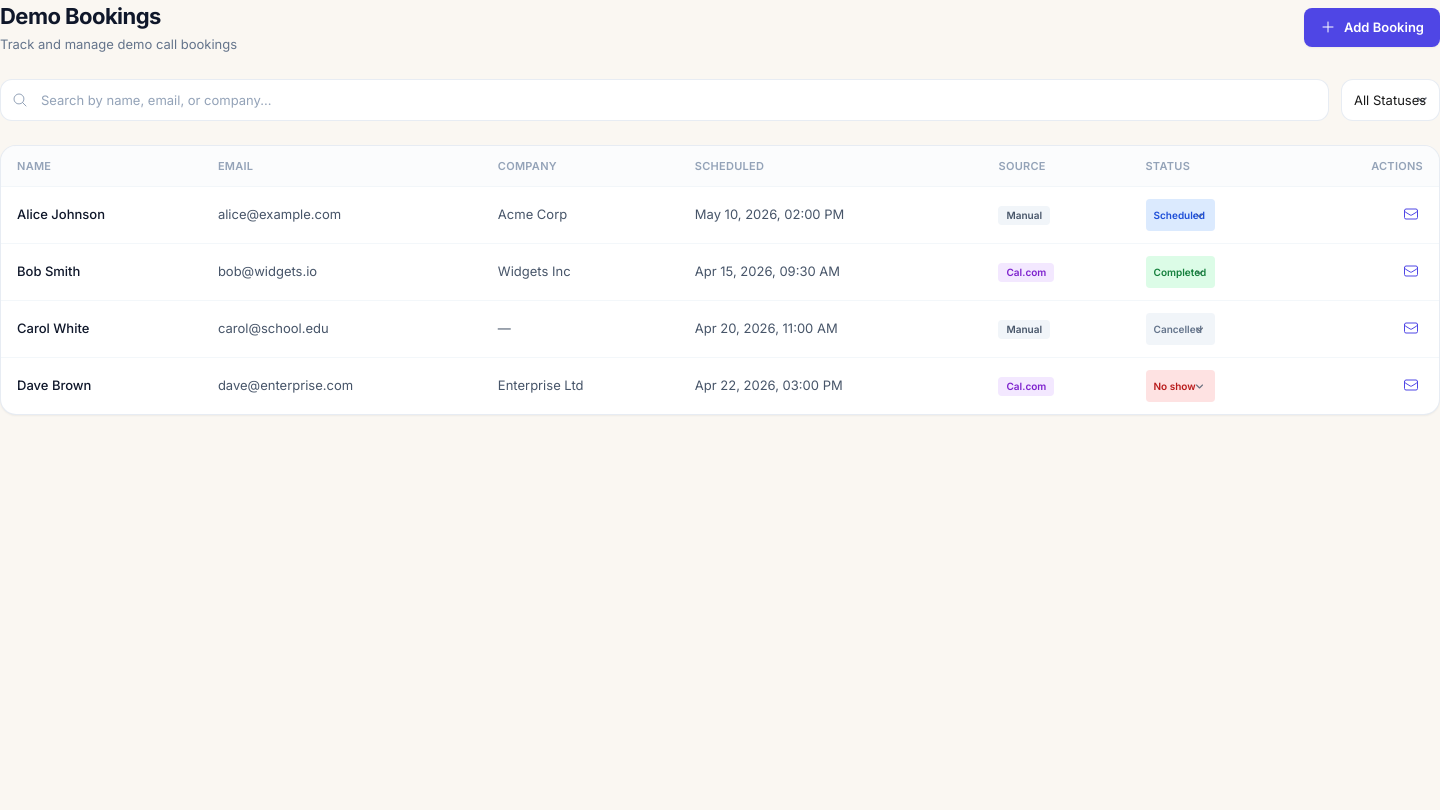
Test: DemoBookingsPage › Create Booking modal › opens when "Add Booking" button is clicked
Click the button "Add Booking" at (1372, 27), box [1304,8,1439,47]
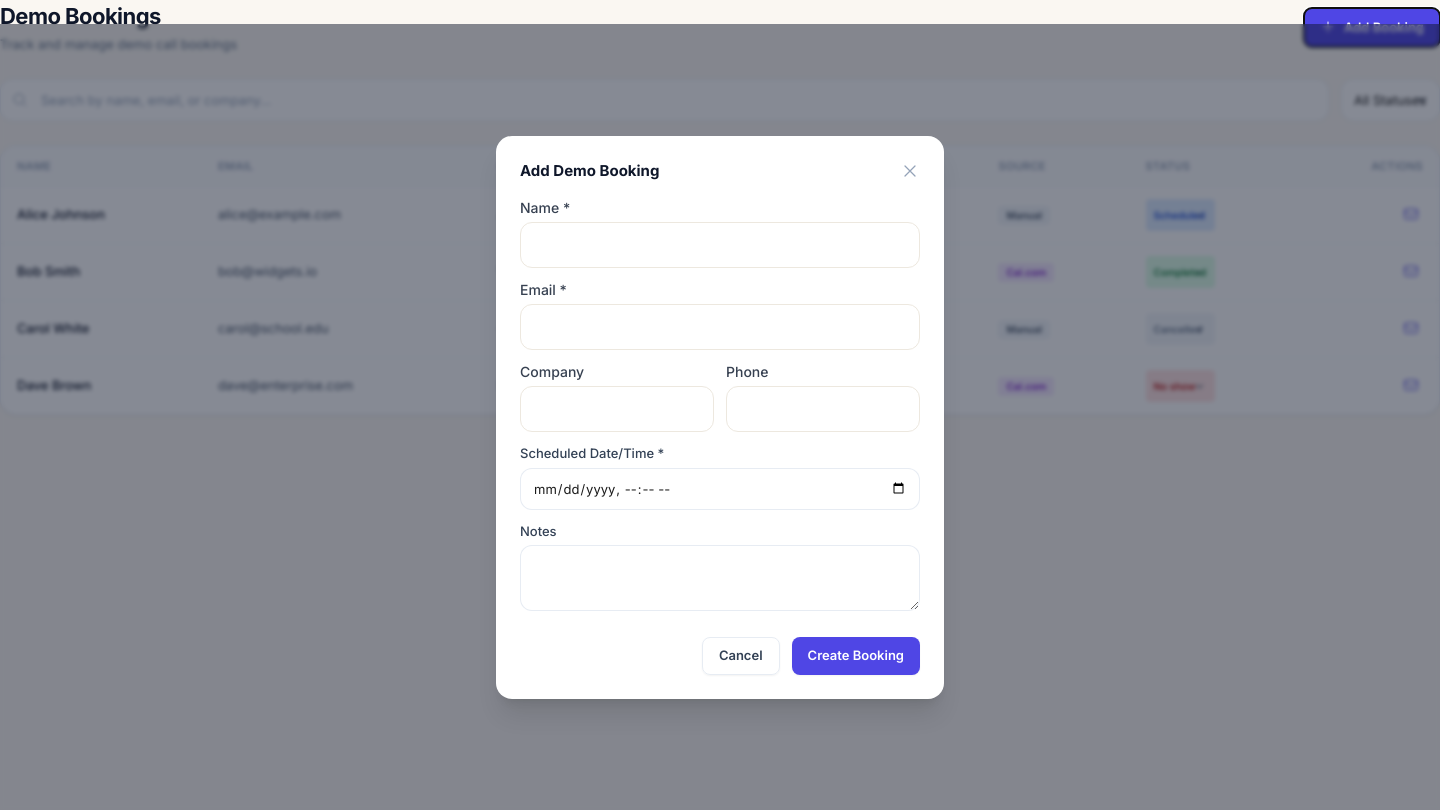
Expected: the heading "Add Demo Booking" is shown, [520,160,659,182]
